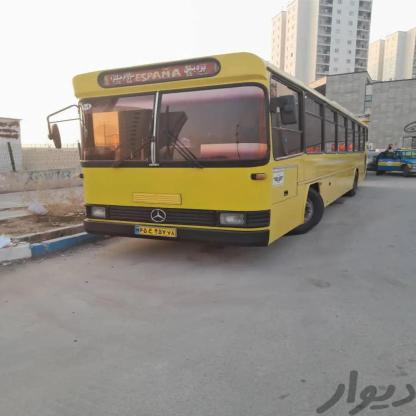Bus: (64, 48, 370, 249)
